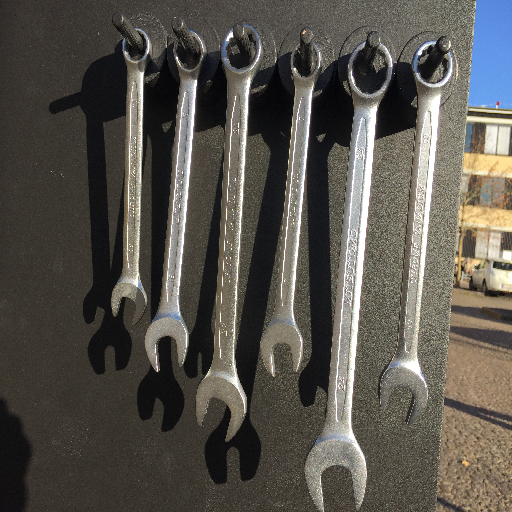bottom: (303, 430, 369, 512), (194, 367, 247, 446), (378, 354, 431, 430), (143, 309, 190, 375), (258, 317, 305, 379), (109, 274, 149, 327)
top: (346, 38, 395, 108), (409, 39, 455, 95), (221, 23, 266, 80), (287, 40, 328, 89), (170, 27, 208, 76), (119, 27, 154, 69)
